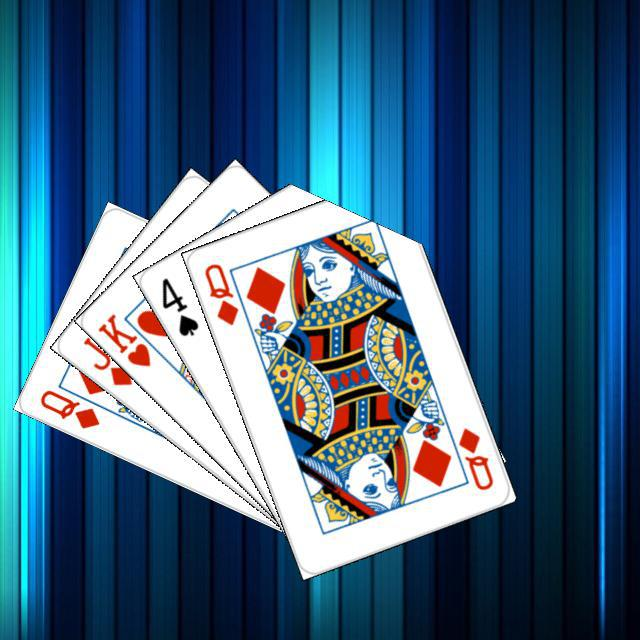4s: (156, 272, 201, 339)
Jd: (78, 331, 135, 388)
Kh: (93, 308, 168, 369)
Qd: (35, 385, 101, 431), (453, 423, 495, 492), (199, 258, 240, 327)
